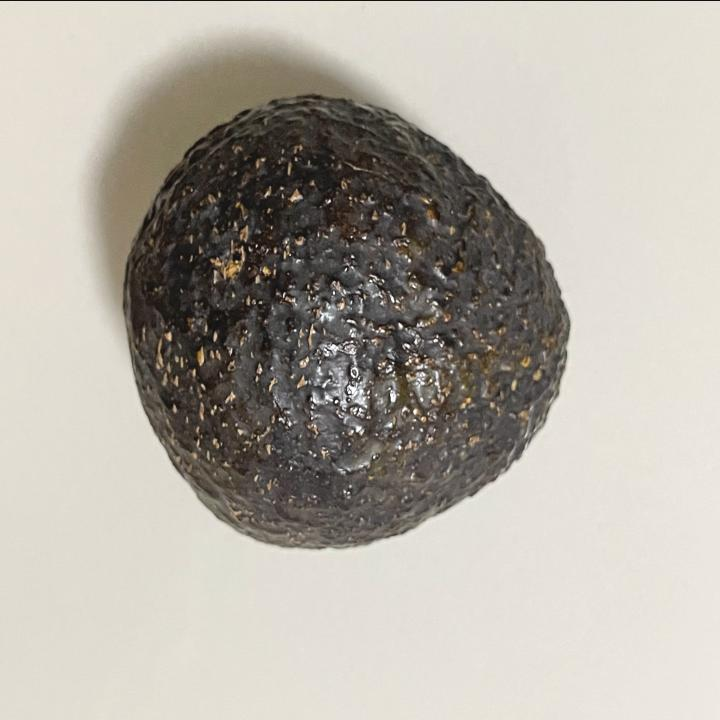Level3: (112, 84, 584, 566)
